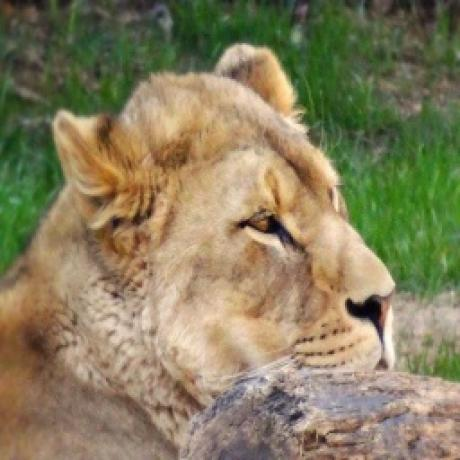Lion: (0, 40, 401, 460)
